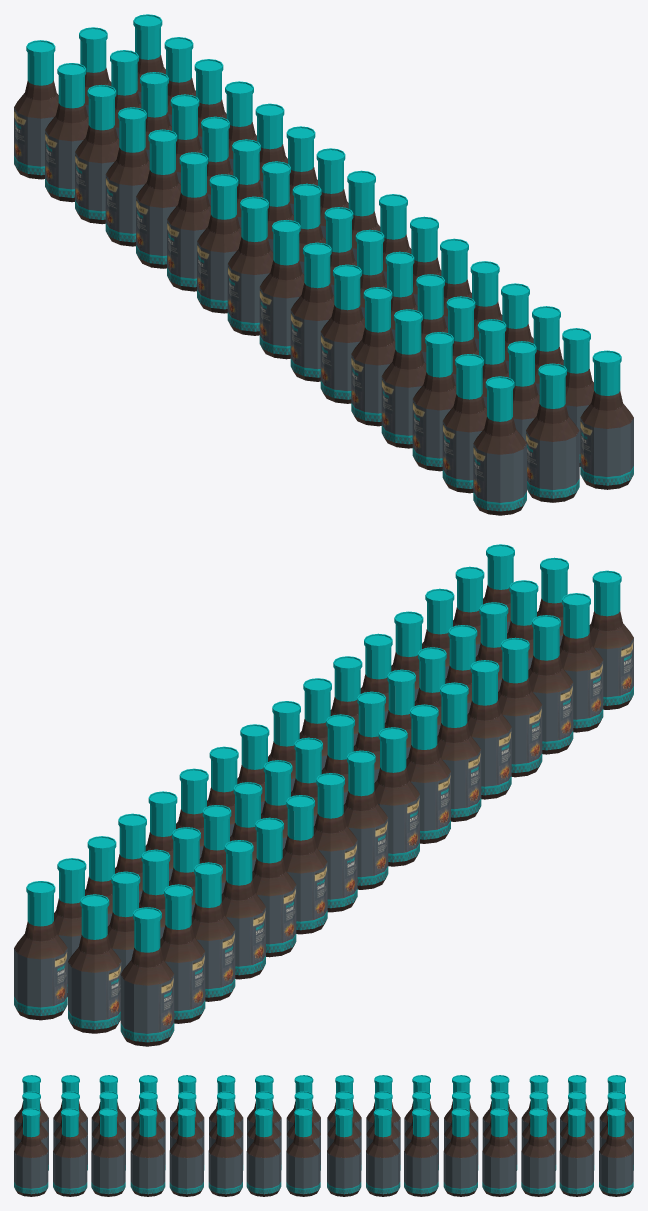
Rendered from saucebottlespile.fbx.
The picture shows the model from 3 angles, top to bottom: view 1: azimuth 30°, elevation 25°; view 2: azimuth 150°, elevation 25°; view 3: azimuth 270°, elevation 25°; orthographic projection. The views are drawn at different scales.
Parts seen in each view (by area): view 1: Saucce Botlle.005; view 2: Saucce Botlle.005; view 3: Saucce Botlle.005.
Part boxes in pixels (<box>): Saucce Botlle.005: <box>14,14,633,515</box>; Saucce Botlle.005: <box>14,544,633,1046</box>; Saucce Botlle.005: <box>14,1075,633,1196</box>.
Bounding box in the file's own units: 64.15 × 49.29 × 353.
